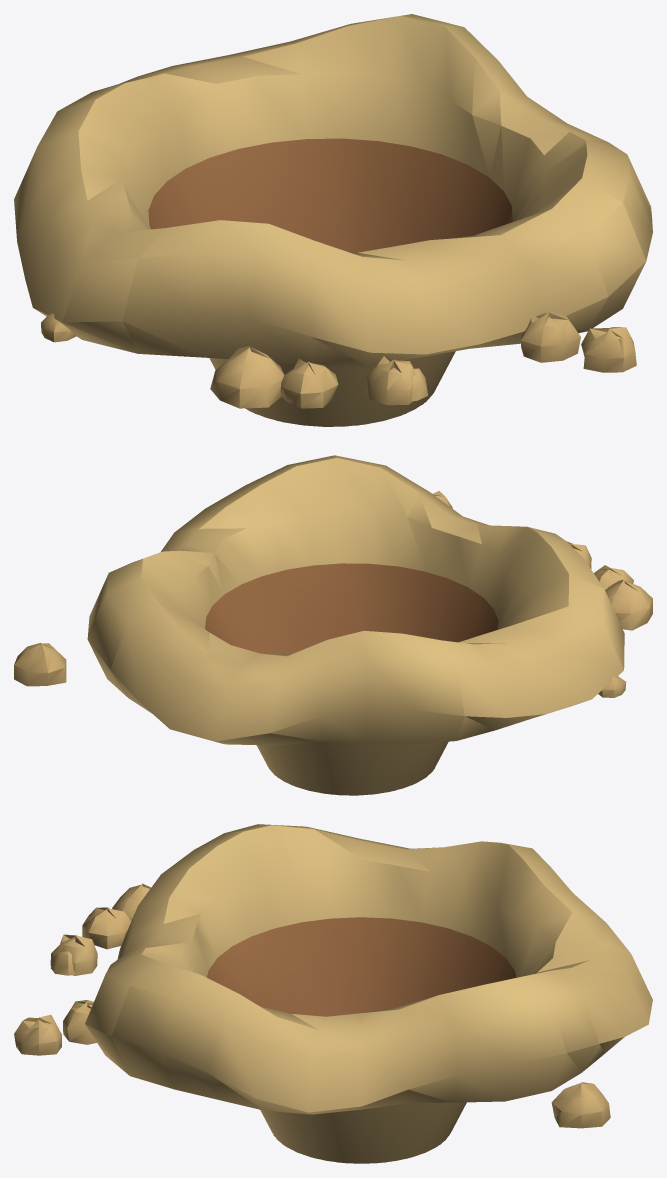
File: cen_tarhut_buraco_2.glb
3 views of the same model, one above another, from view 1: azimuth 30°, elevation 25°; view 2: azimuth 150°, elevation 25°; view 3: azimuth 270°, elevation 25° (orthographic). The views are drawn at different scales.
Parts seen in each view (by area): view 1: buraco; view 2: buraco; view 3: buraco.
Boxes of the visible parts, x1,y1,x2,y2 form: buraco: (14,14,652,426); buraco: (14,455,652,795); buraco: (14,824,652,1163).
Bounding box in the file's own units: 2.33 × 0.975 × 2.53.
